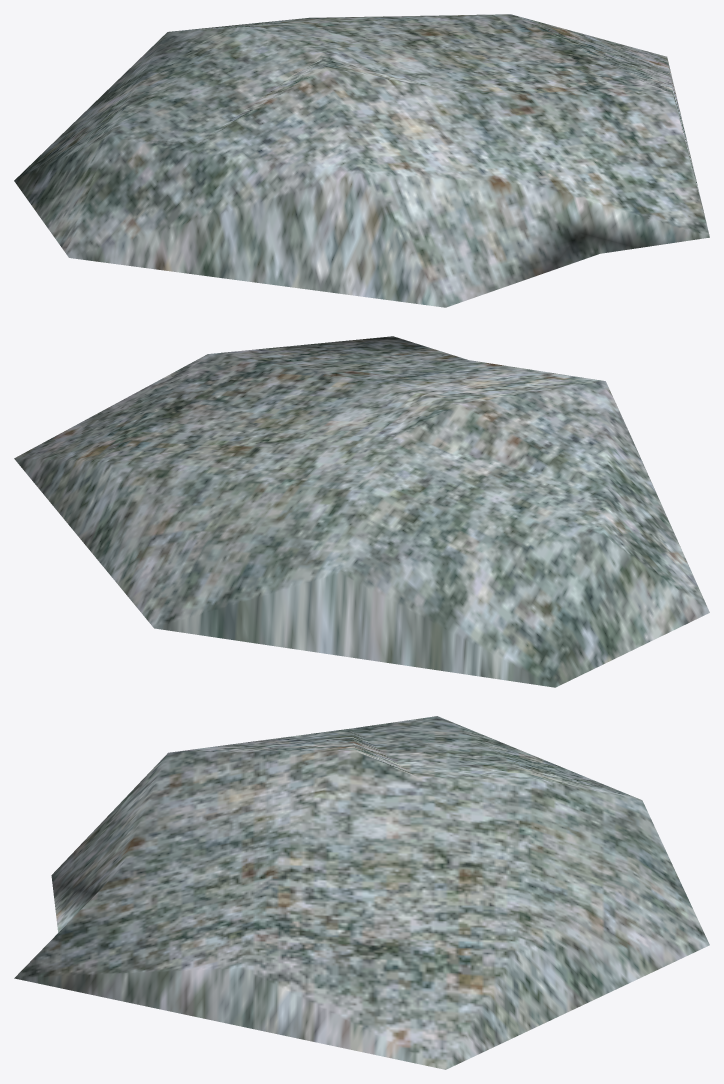
Rendered from rock_graniteslab_small_l1.fbx.
3 renders of one model, top to bottom at view 1: azimuth 30°, elevation 25°; view 2: azimuth 150°, elevation 25°; view 3: azimuth 270°, elevation 25°, orthographic. The views are drawn at different scales.
Visible parts, largest first — view 1: mesh_node; view 2: mesh_node; view 3: mesh_node.
Boxes of the visible parts, left/top/right/bottom form: mesh_node: left=14, top=14, right=709, bottom=307; mesh_node: left=14, top=336, right=709, bottom=687; mesh_node: left=14, top=716, right=709, bottom=1069.
Size of the model in its own units: 1.01 by 0.2159 by 0.9025.
